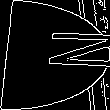N_W: (4, 33, 106, 77)
